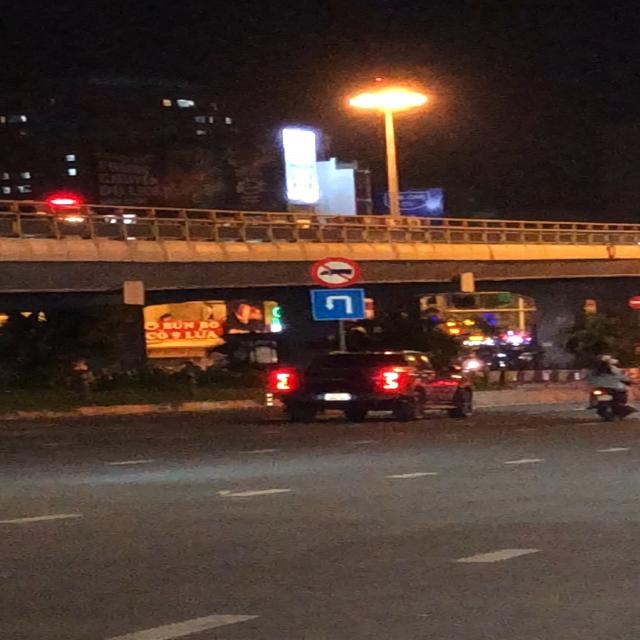Bien bao cam xe so-mi ro-mooc: (311, 255, 358, 288)
